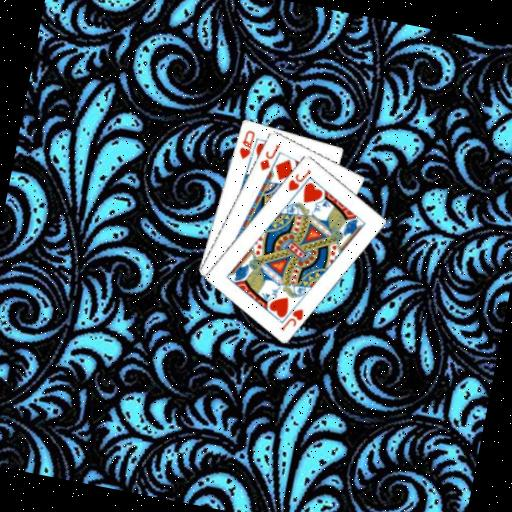JD: (256, 138, 282, 174)
JH: (277, 302, 306, 336), (284, 163, 313, 196)
QH: (235, 125, 258, 162)
